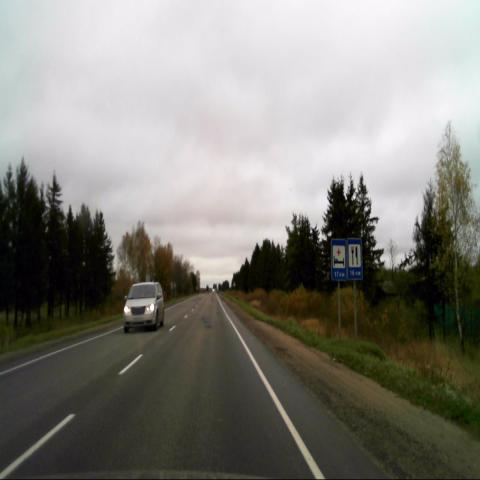7_2: (331, 238, 347, 281)
7_7: (347, 237, 363, 280)
